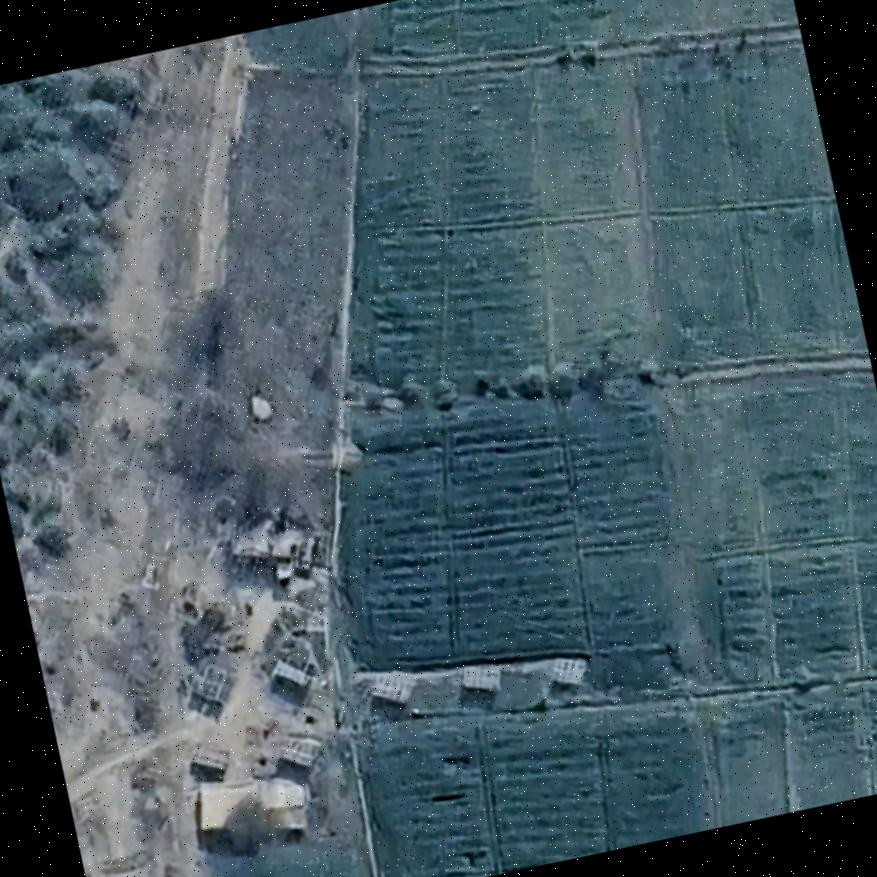Solarpanel: (181, 657, 239, 711), (277, 727, 326, 769), (184, 739, 234, 774), (371, 671, 416, 706), (270, 656, 316, 690), (457, 660, 502, 692), (548, 655, 587, 686)
